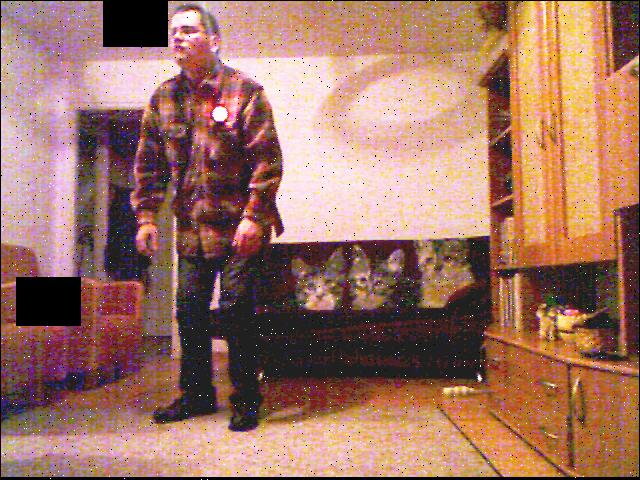bending: (123, 2, 291, 435)
